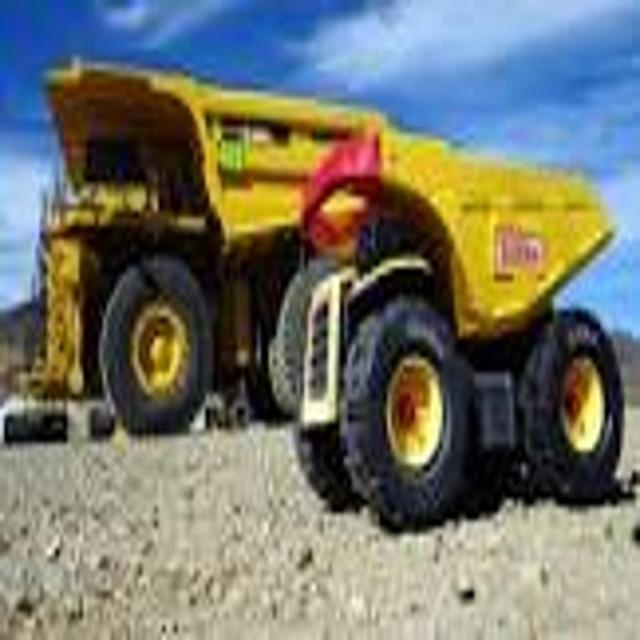dump_truck: (296, 111, 625, 517)
